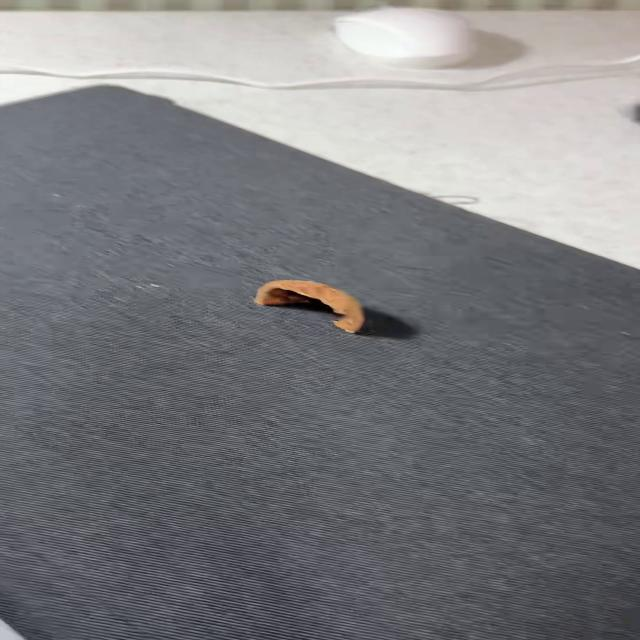nuts-bad0.25: (255, 280, 365, 333)
